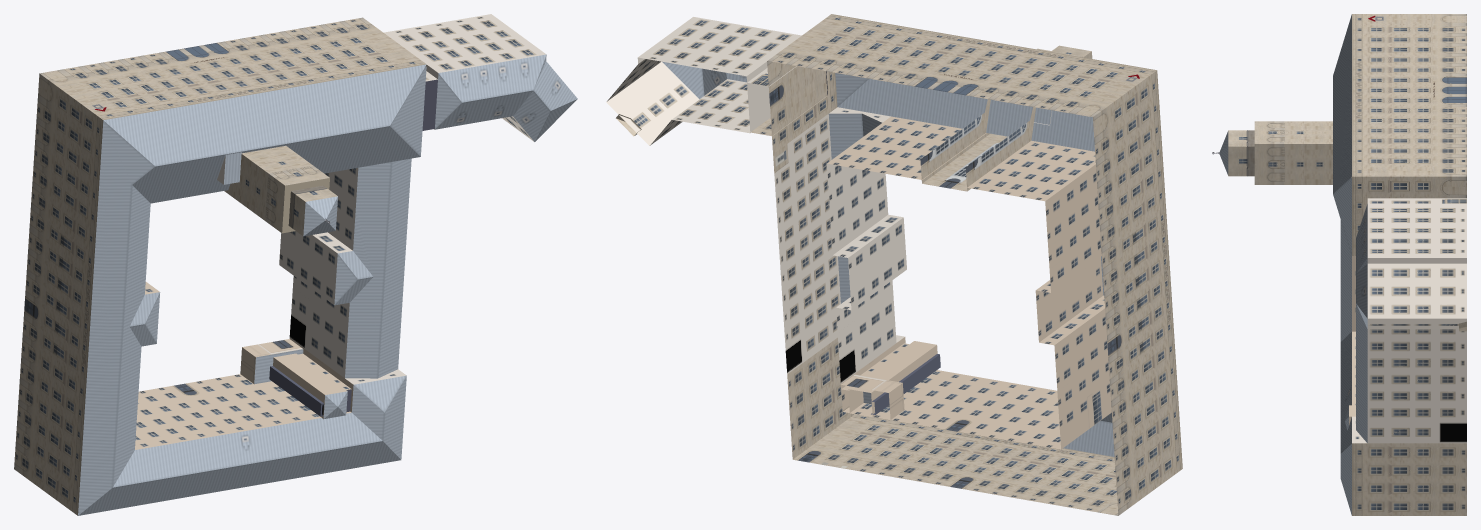
The model's file is DEU_CY0225_KARLSRUHE_VOLKSWOHNUNG_L.OBJ.
3 views of the same model, side by side, from view 1: azimuth 30°, elevation 25°; view 2: azimuth 150°, elevation 25°; view 3: azimuth 270°, elevation 25° (orthographic). The views are drawn at different scales.
Parts seen in each view (by area): view 1: L; view 2: L; view 3: L.
Boxes of the visible parts, x1,y1,x2,y2 form: L: (14, 14, 577, 515); L: (606, 14, 1182, 515); L: (1212, 14, 1466, 515).
Size of the model in its own units: 91.87 by 71.28 by 44.49.
Materials: 1 (1 with a texture image).
